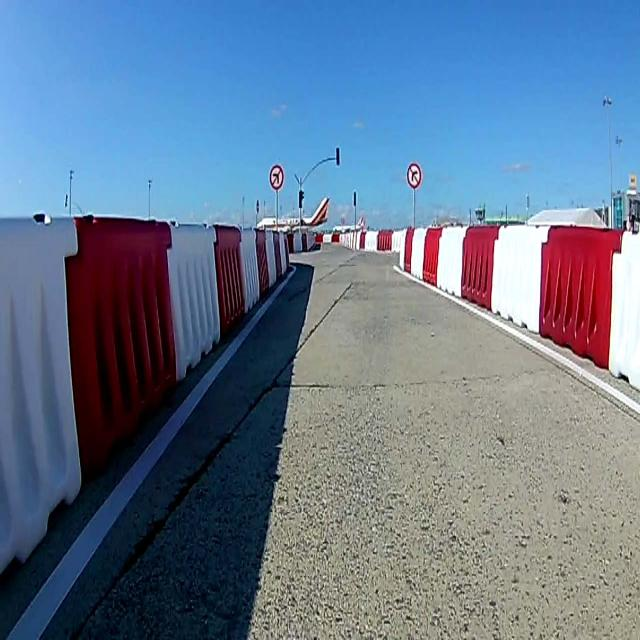sagadonulmez: (407, 162, 421, 188)
soladonulmez: (270, 166, 284, 190)
